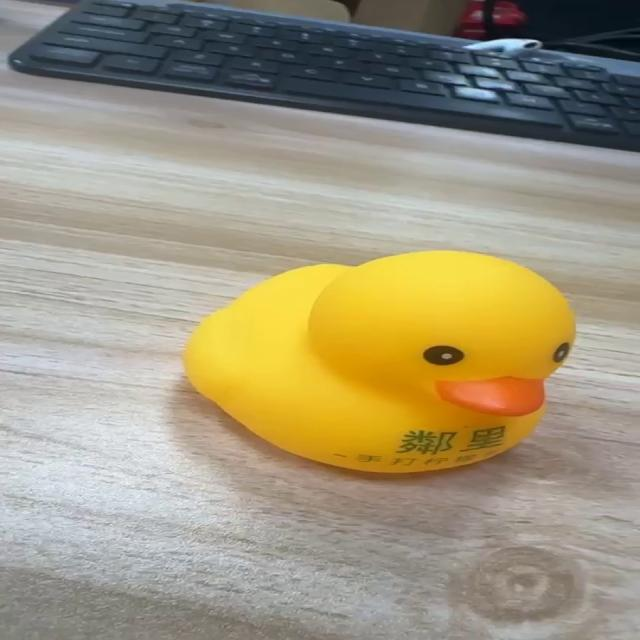yellow_duck: (180, 248, 577, 474)
